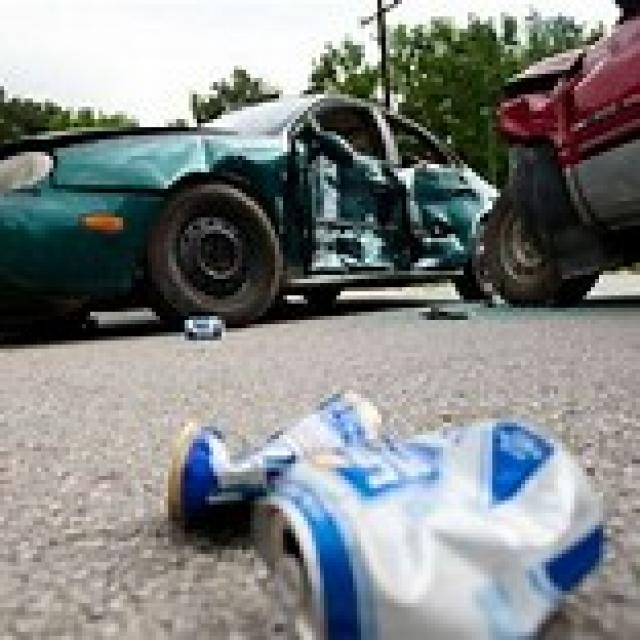Accident: (82, 25, 640, 373)
